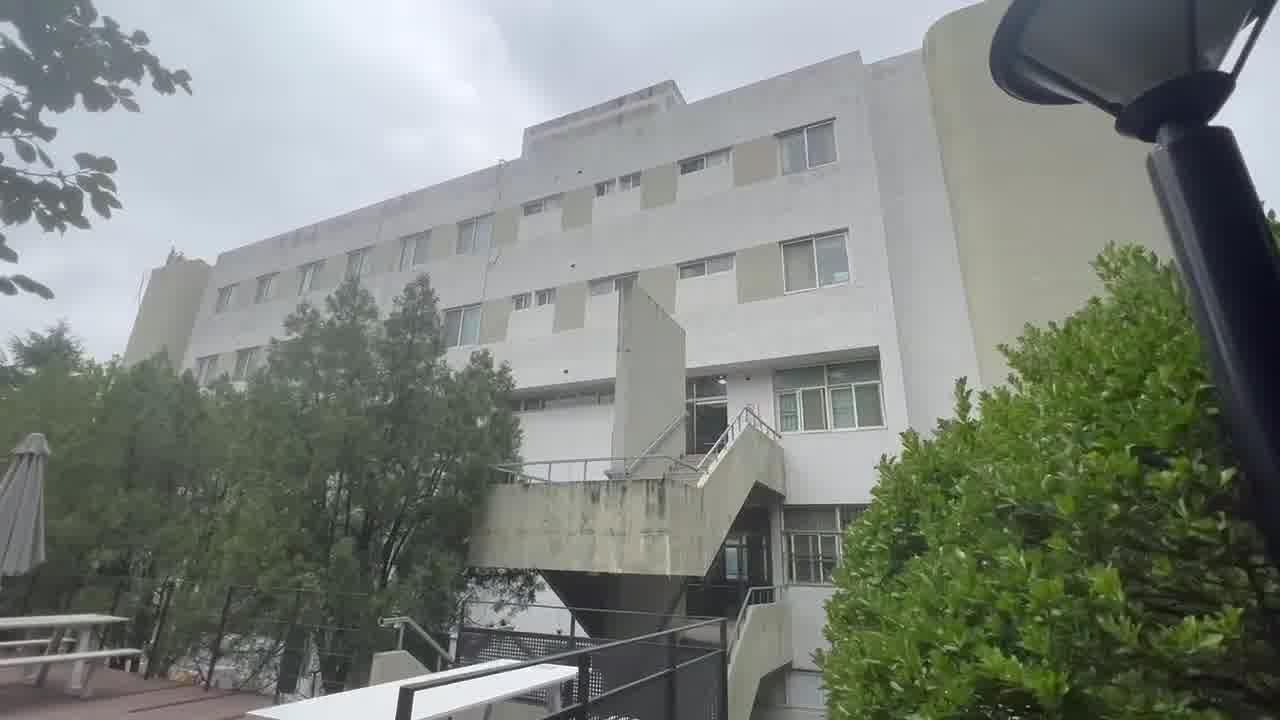building: (496, 102, 877, 563)
